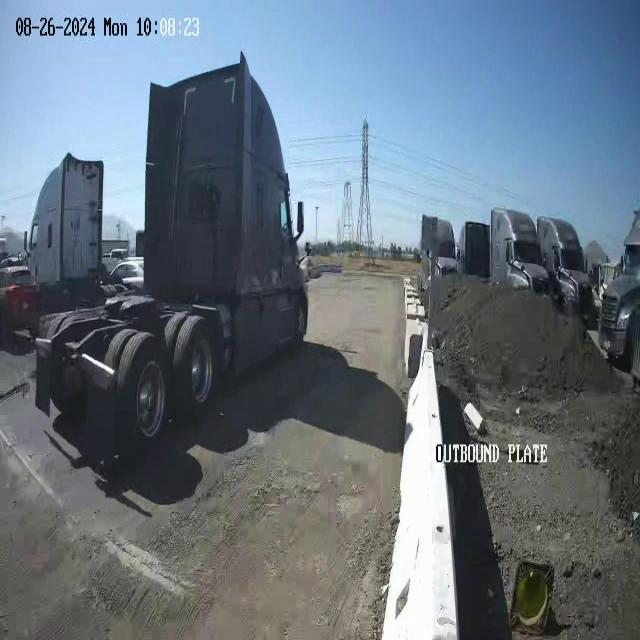BOBTAIL: (31, 49, 312, 455)
